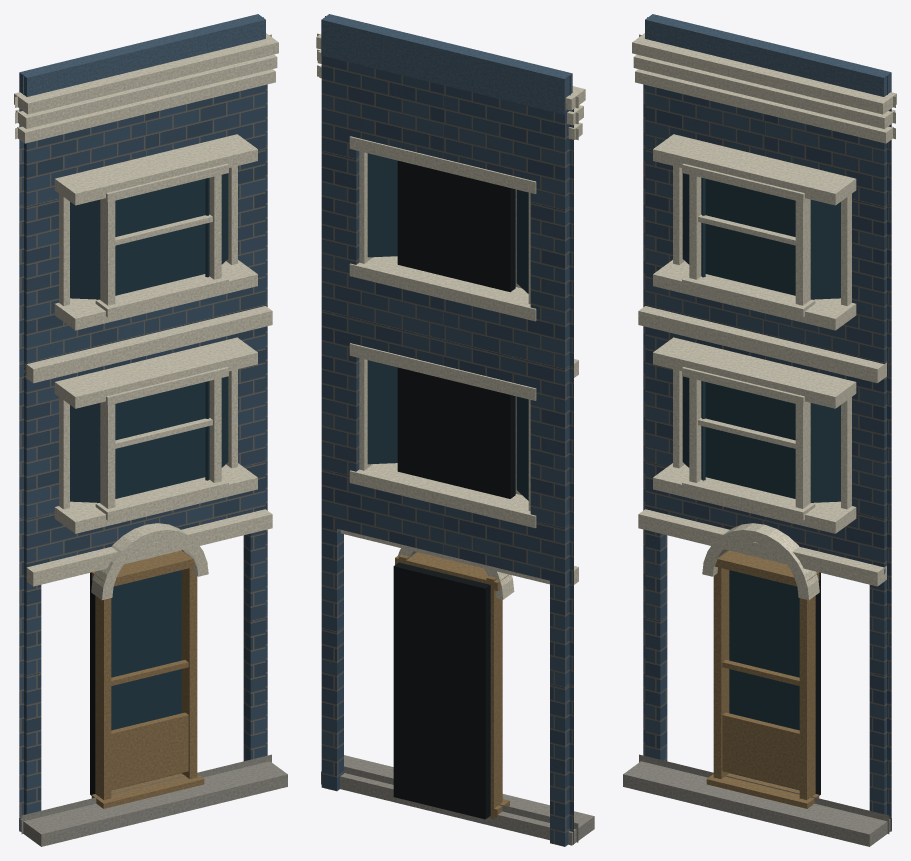
Rendered from VICT3A_lod2.glb.
The picture shows the model from 3 angles, left to right: view 1: azimuth 30°, elevation 25°; view 2: azimuth 150°, elevation 25°; view 3: azimuth 330°, elevation 25°; orthographic projection.
Parts seen in each view (by area): view 1: VICT3A_FRONT_LOD2; view 2: VICT3A_FRONT_LOD2; view 3: VICT3A_FRONT_LOD2.
Part boxes in pixels (bbox=[...]): VICT3A_FRONT_LOD2: bbox=[14, 14, 287, 846]; VICT3A_FRONT_LOD2: bbox=[316, 14, 594, 846]; VICT3A_FRONT_LOD2: bbox=[623, 14, 896, 846].
Size of the model in its own units: 3.44 by 9.66 by 0.765.
Materials: 8 (6 with a texture image).
